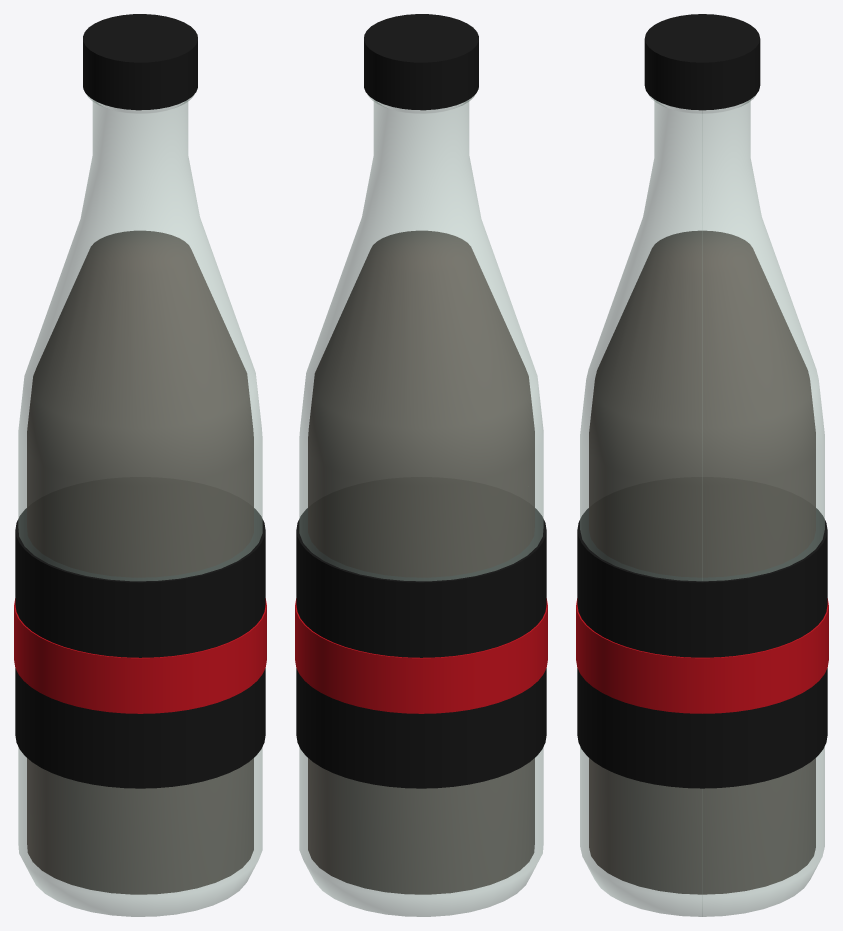
File: bibite-coca-cola-zero-vetro.glb
3 views of the same model, side by side, from view 1: azimuth 30°, elevation 25°; view 2: azimuth 150°, elevation 25°; view 3: azimuth 270°, elevation 25° (orthographic).
Size of the model in its own units: 0.0578 by 0.21 by 0.0578.
